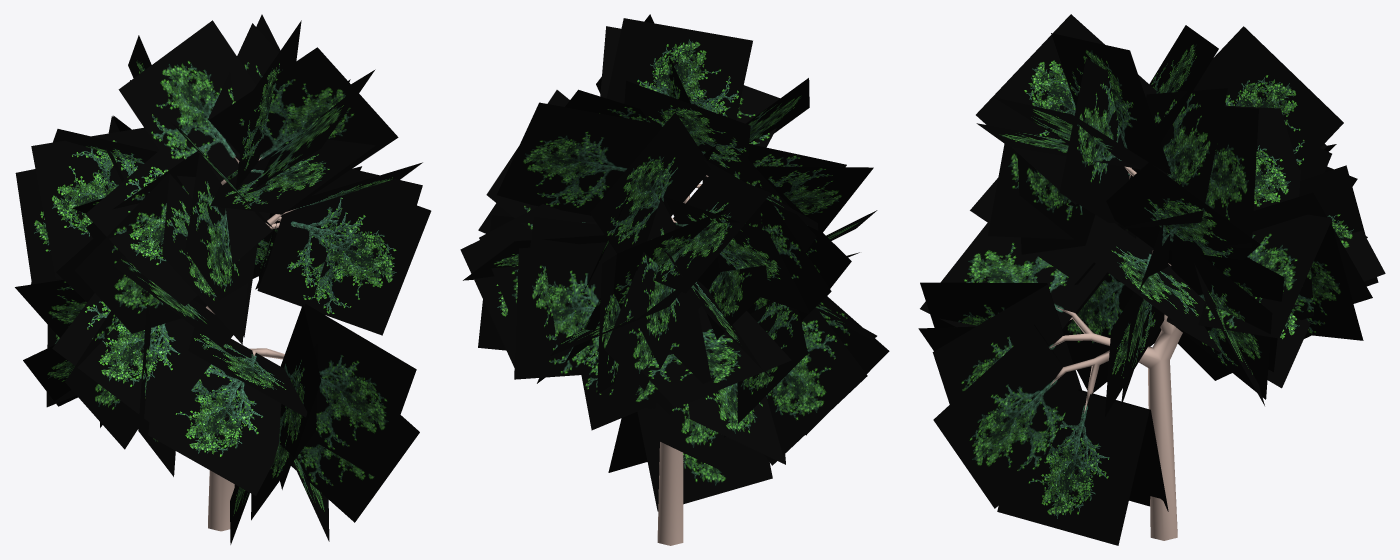
Rendered from tree.glb.
The picture shows the model from 3 angles, left to right: view 1: azimuth 30°, elevation 25°; view 2: azimuth 150°, elevation 25°; view 3: azimuth 270°, elevation 25°; orthographic projection. The views are drawn at different scales.
Bounding box in the file's own units: 5.61 × 6.98 × 5.73.
Materials: 2 (1 with a texture image).
